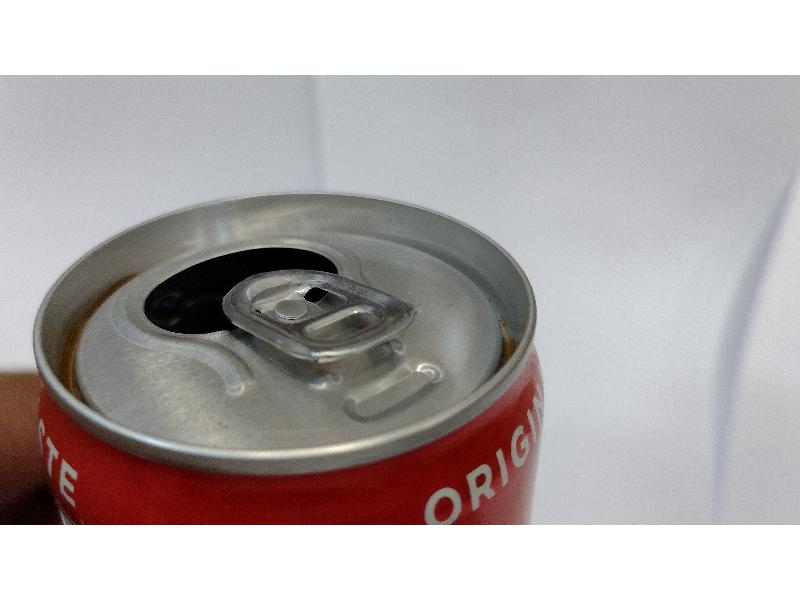can: (21, 180, 559, 524)
